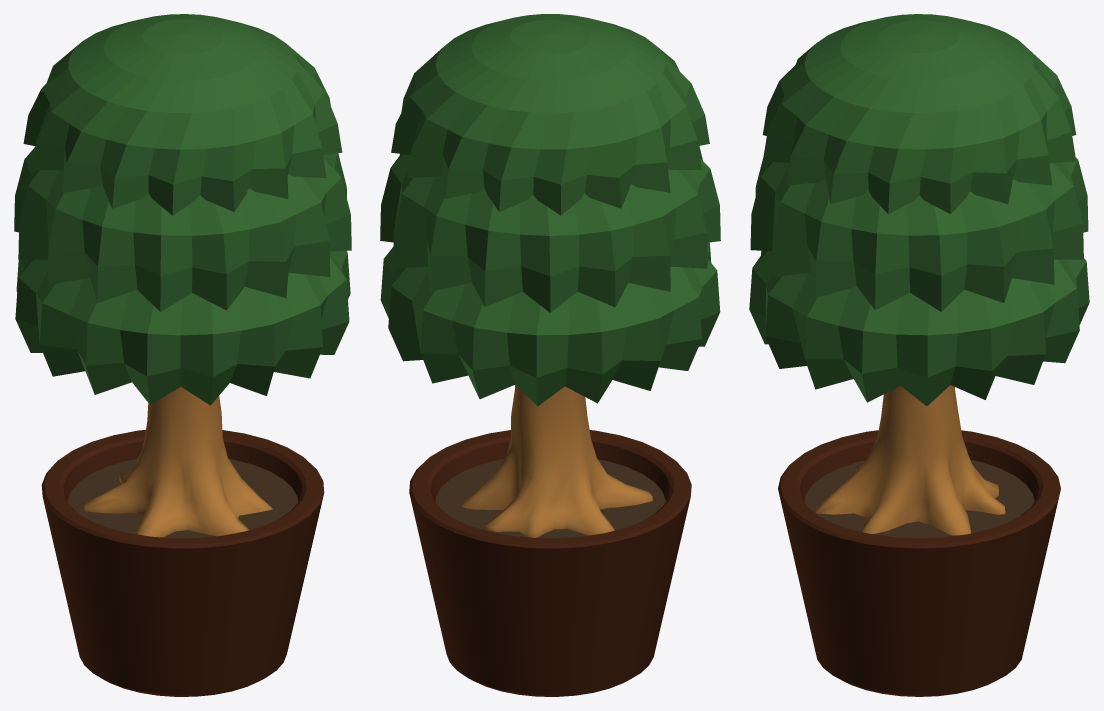
Rendered from Tree.fbx.
3 renders of one model, left to right at view 1: azimuth 30°, elevation 25°; view 2: azimuth 150°, elevation 25°; view 3: azimuth 270°, elevation 25°, orthographic.
Visible parts, largest first — view 1: Cylinder; view 2: Cylinder; view 3: Cylinder.
Boxes of the visible parts, box(x1,y1,x2,y2) form: Cylinder: box(14, 14, 351, 696); Cylinder: box(380, 14, 720, 696); Cylinder: box(749, 14, 1089, 696).
Bounding box in the file's own units: 0.989 × 2 × 0.989.
1 material, 1 textured.
